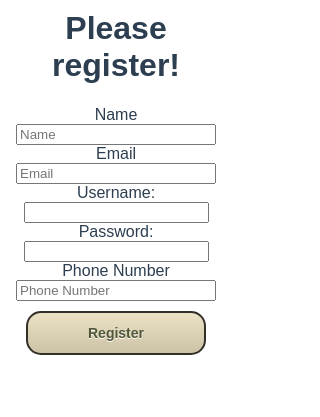
Scenario: Register view › Unsuccessful registration (Not filled out reqiured information)
The image size is (320, 417).
Click the button with test id "button".
click(116, 333)  # box [26,311,206,355]
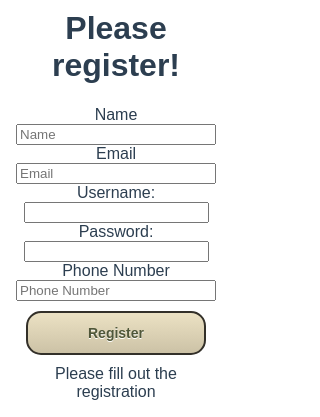
Check: the label with test id "registrationStatus" reads "Please fill out the registration", box [55,365,177,400]
